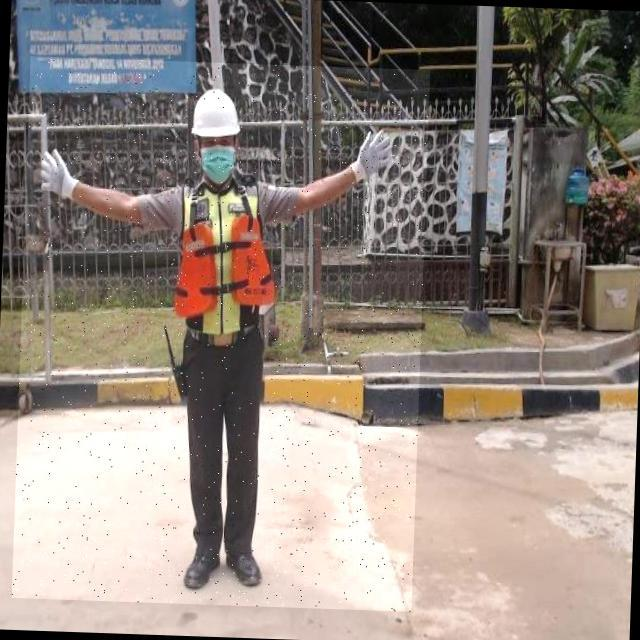Helmet: (190, 86, 241, 139)
Human: (11, 56, 430, 612)
Safety Boot: (221, 535, 266, 592), (182, 536, 223, 594)
Safety Vest: (173, 173, 278, 337)
